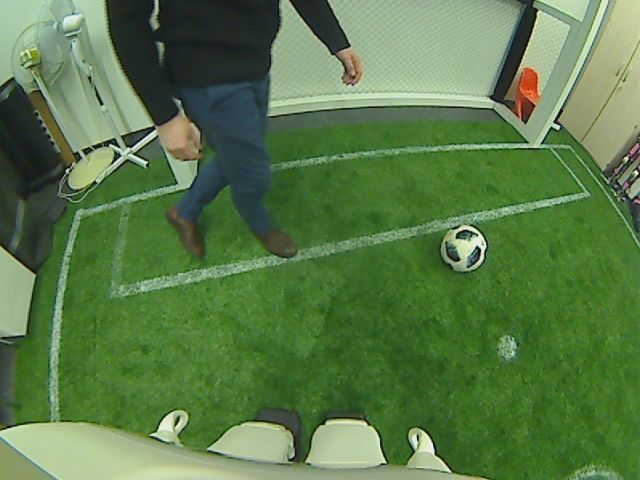ball: (439, 225, 488, 272)
